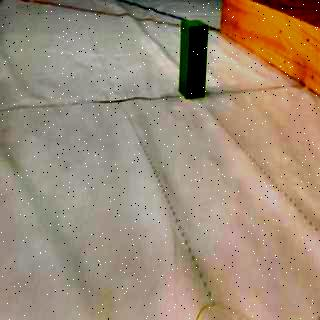greenbox: (180, 19, 210, 98)
